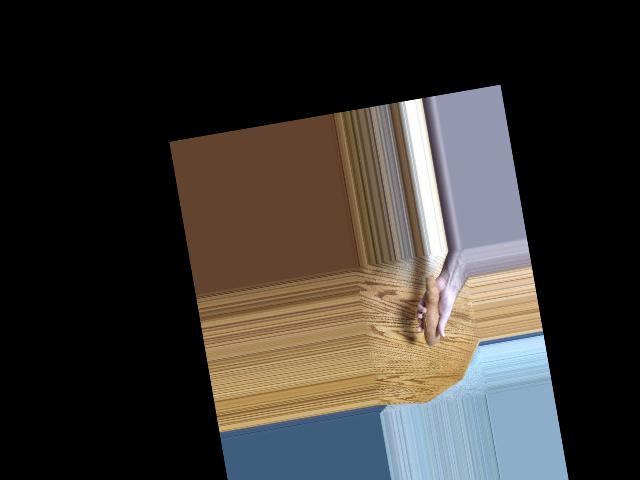sweet_potato: (412, 266, 454, 348)
